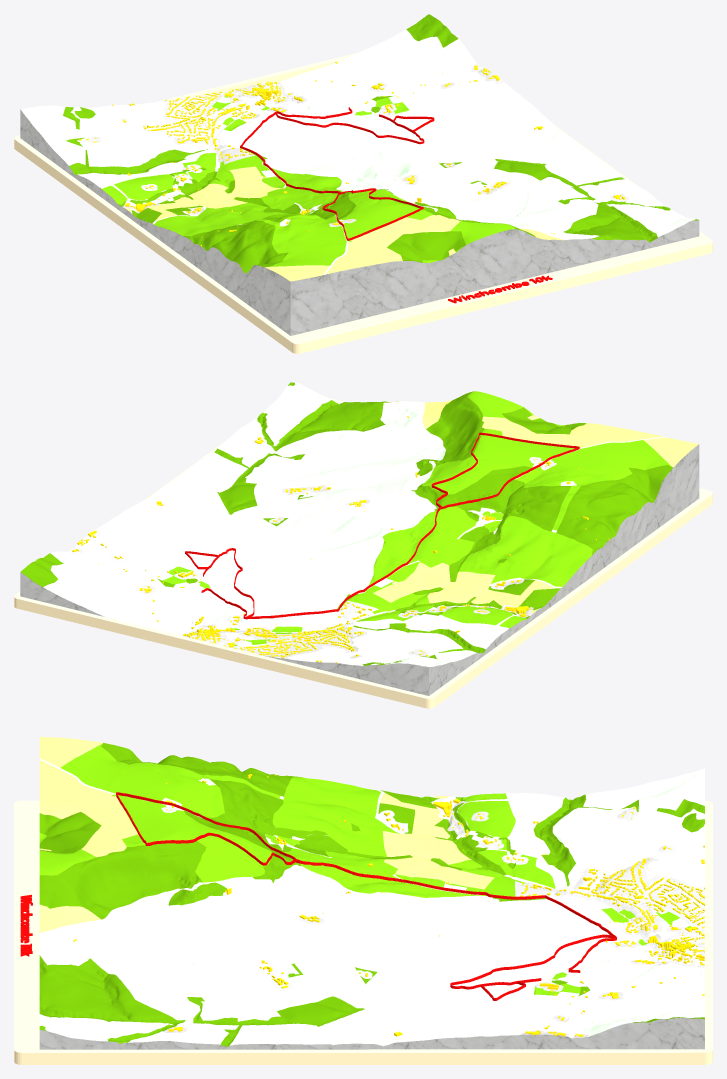
The model's file is exmue0a7jie9bz.glb.
3 renders of one model, top to bottom at view 1: azimuth 30°, elevation 25°; view 2: azimuth 150°, elevation 25°; view 3: azimuth 270°, elevation 25°, orthographic. The views are drawn at different scales.
Parts seen in each view (by area): view 1: tinMesh, clipSide, frame_wall, landCover_URBAN_24, landCover_GRASS_21, landCover_FARMLAND_4, landCover_WOOD_27, landCover_FARMLAND_5, landCover_GRASS_20, track_KRbi8Qnvjo53VhZZASE90_0, landCover_GRASS_22, landCover_GRASS_19 (+10 smaller); view 2: tinMesh, frame_wall, clipSide, landCover_WOOD_28, landCover_GRASS_22, landCover_WOOD_27, landCover_GRASS_21, landCover_GRASS_19, landCover_FARMLAND_5, landCover_GRASS_20, landCover_URBAN_24, landCover_WOOD_26 (+11 smaller); view 3: tinMesh, frame_wall, clipSide, landCover_WOOD_25, landCover_URBAN_24, landCover_GRASS_22, landCover_GRASS_21, landCover_WOOD_26, landCover_GRASS_20, landCover_WOOD_28, landCover_FARMLAND_5, landCover_FARMLAND_4 (+15 smaller).
Part boxes in pixels (x1=…): tinMesh: x1=21, y1=29, x2=695, y2=274; clipSide: x1=20, y1=109, x2=699, y2=335; frame_wall: x1=14, y1=53, x2=712, y2=353; landCover_URBAN_24: x1=139, y1=82, x2=307, y2=164; landCover_GRASS_21: x1=240, y1=215, x2=346, y2=266; landCover_FARMLAND_4: x1=326, y1=215, x2=460, y2=274; landCover_WOOD_27: x1=183, y1=220, x2=288, y2=273; landCover_FARMLAND_5: x1=149, y1=166, x2=281, y2=220; landCover_GRASS_20: x1=340, y1=190, x2=432, y2=241; track_KRbi8Qnvjo53VhZZASE90_0: x1=240, y1=107, x2=434, y2=240; landCover_GRASS_22: x1=154, y1=202, x2=289, y2=236; landCover_GRASS_19: x1=260, y1=168, x2=342, y2=210; tinMesh: x1=43, y1=382, x2=666, y2=666; frame_wall: x1=14, y1=397, x2=712, y2=708; clipSide: x1=20, y1=444, x2=699, y2=695; landCover_WOOD_28: x1=411, y1=466, x2=571, y2=581; landCover_GRASS_22: x1=459, y1=516, x2=592, y2=586; landCover_WOOD_27: x1=556, y1=465, x2=673, y2=554; landCover_GRASS_21: x1=515, y1=440, x2=671, y2=530; landCover_GRASS_19: x1=368, y1=506, x2=476, y2=585; landCover_FARMLAND_5: x1=373, y1=562, x2=553, y2=606; landCover_GRASS_20: x1=422, y1=429, x2=580, y2=494; landCover_URBAN_24: x1=180, y1=600, x2=378, y2=658; landCover_WOOD_26: x1=271, y1=400, x2=398, y2=451; tinMesh: x1=39, y1=747, x2=704, y2=1046; frame_wall: x1=14, y1=800, x2=712, y2=1064; clipSide: x1=39, y1=1017, x2=704, y2=1049; landCover_WOOD_25: x1=39, y1=841, x2=206, y2=919; landCover_URBAN_24: x1=515, y1=857, x2=704, y2=967; landCover_GRASS_22: x1=272, y1=777, x2=399, y2=856; landCover_GRASS_21: x1=60, y1=744, x2=279, y2=818; landCover_WOOD_26: x1=39, y1=955, x2=185, y2=1024; landCover_GRASS_20: x1=112, y1=794, x2=271, y2=882; landCover_WOOD_28: x1=183, y1=779, x2=412, y2=882; landCover_FARMLAND_5: x1=380, y1=793, x2=494, y2=889; landCover_FARMLAND_4: x1=39, y1=760, x2=137, y2=857.
Bounding box in the file's own units: 3245 × 475 × 3799.
Materials: 10 (1 with a texture image).
